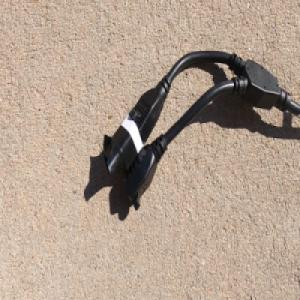Wire: (101, 47, 300, 211)
